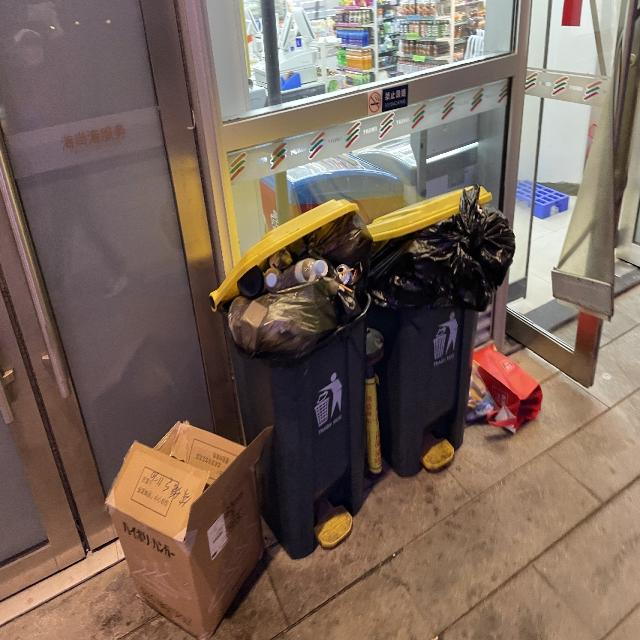garbage: (106, 420, 272, 639), (464, 341, 542, 435)
overflow: (208, 198, 374, 558), (368, 186, 514, 477)
